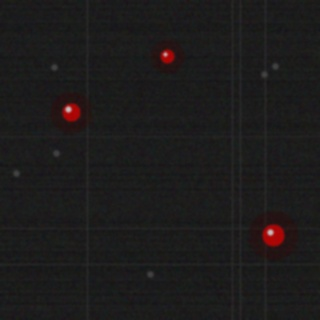red_fault: (260, 222, 286, 248), (60, 101, 82, 123), (158, 47, 176, 65)
